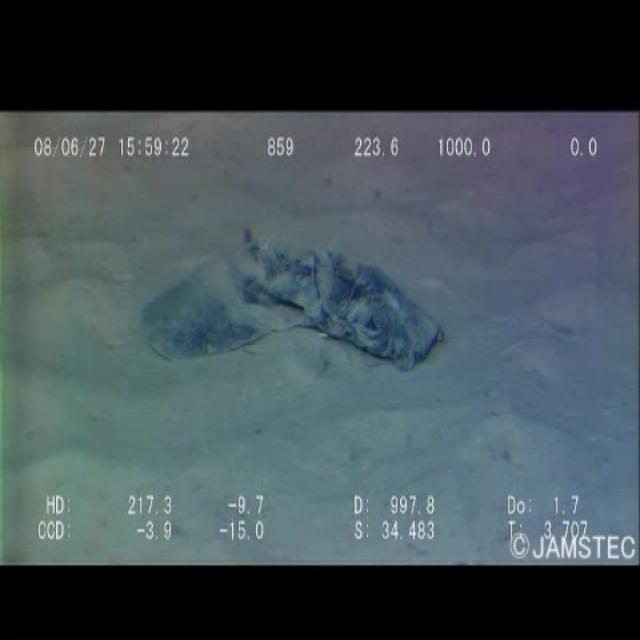Accessories: (124, 207, 451, 403)
